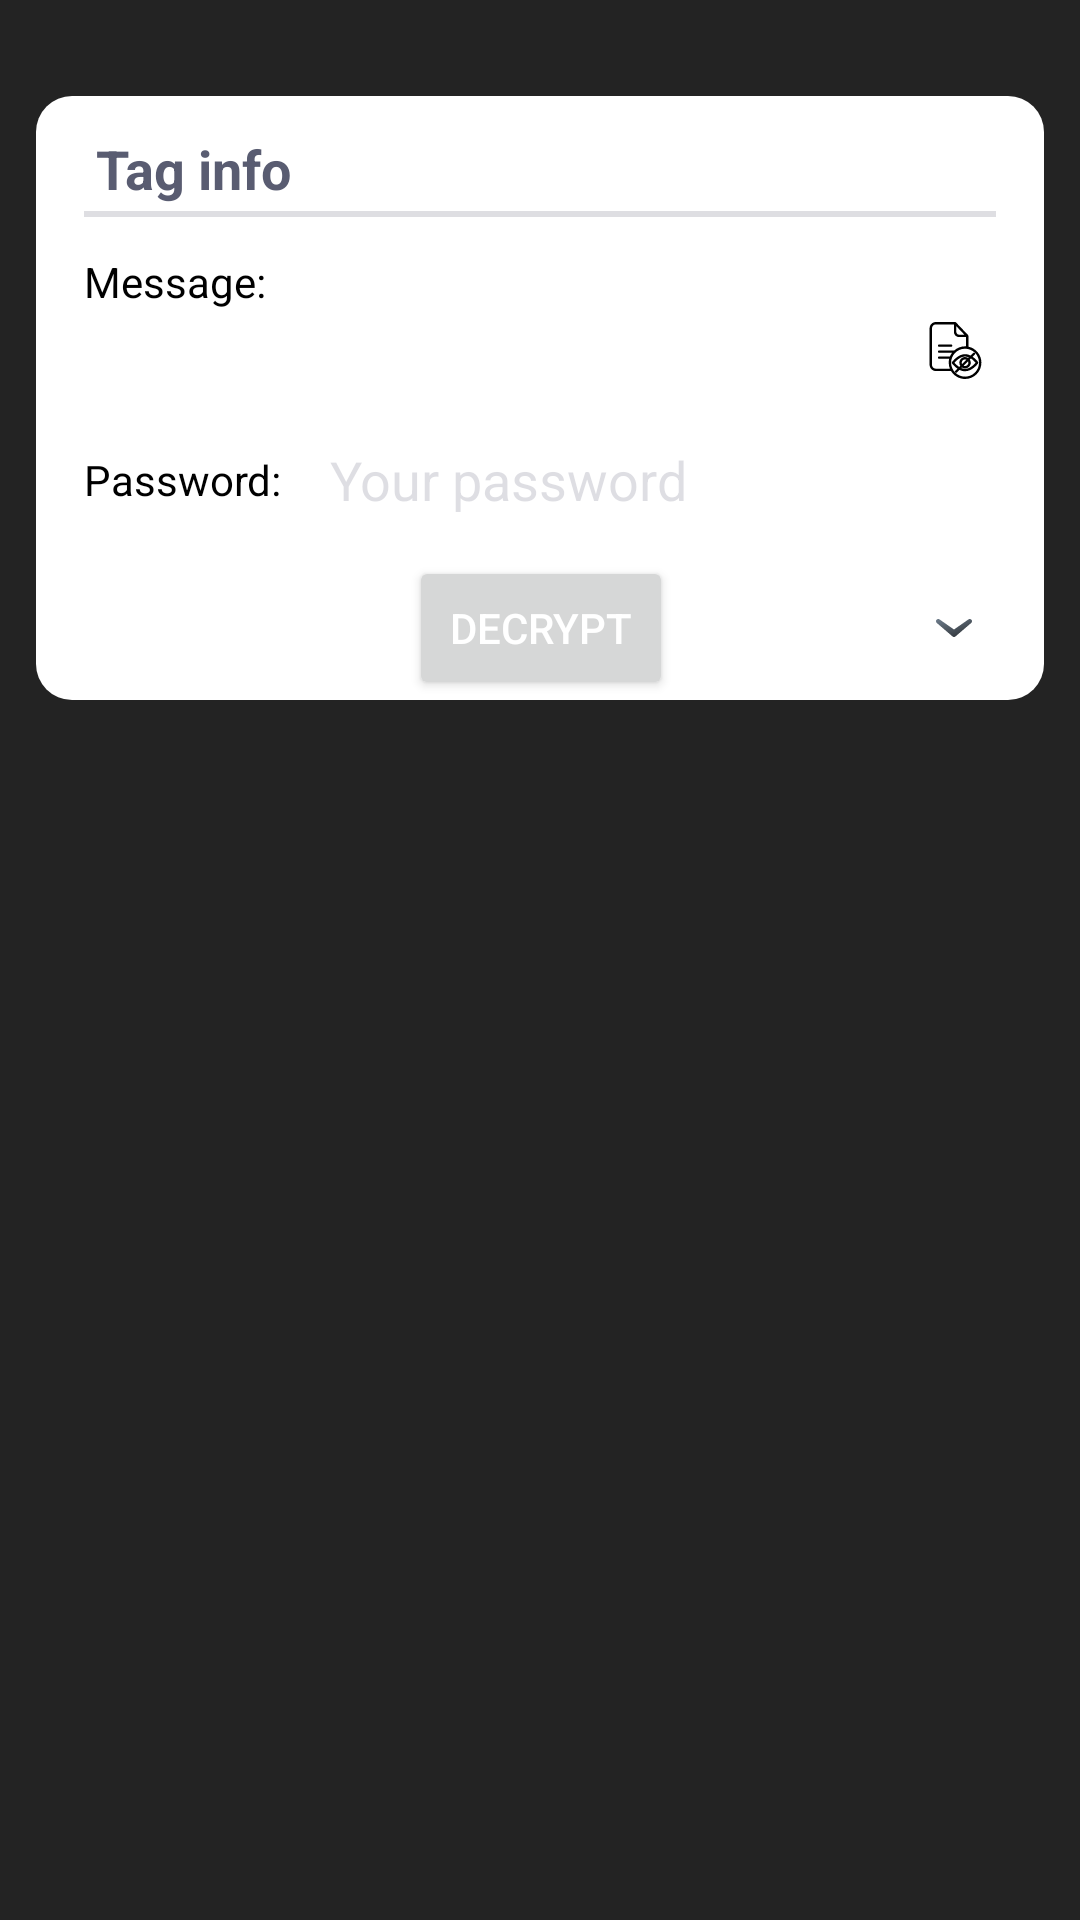

Locate icon controls on the screen. Image size 1080 × 1920, boxes as (x1=x1, y1=y1, x2=x2, y2=y2).
arrow: (x1=936, y1=619, x2=972, y2=637)
hide text: (x1=929, y1=322, x2=982, y2=379)
